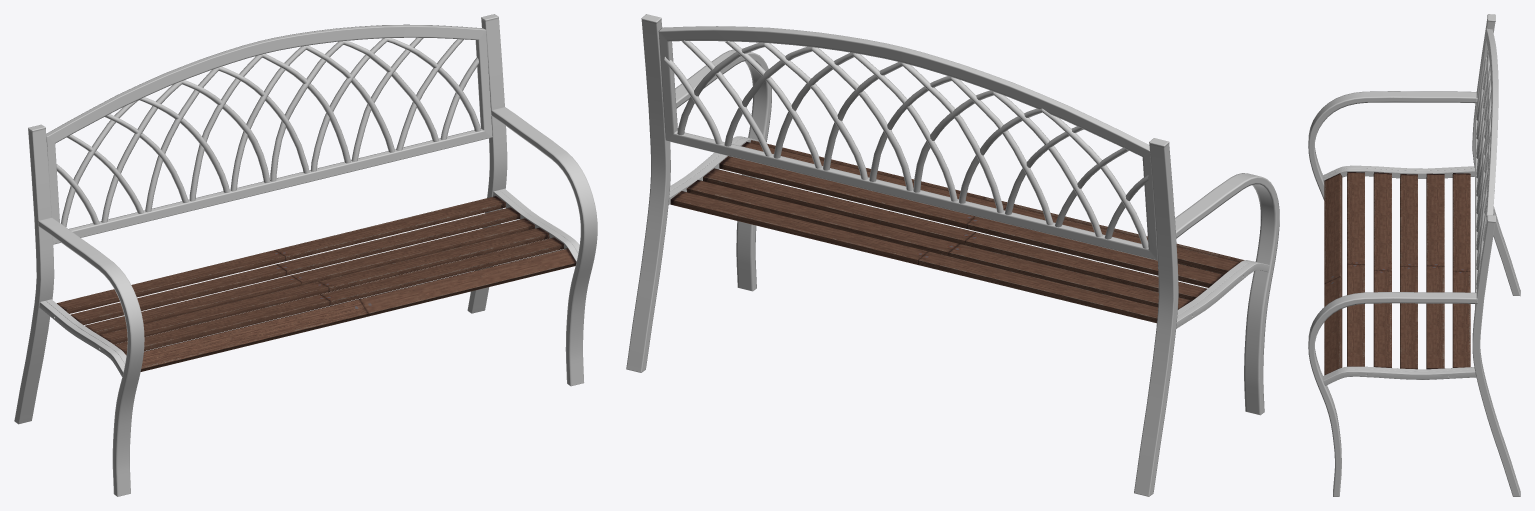
3 views of the same model, side by side, from view 1: azimuth 30°, elevation 25°; view 2: azimuth 150°, elevation 25°; view 3: azimuth 270°, elevation 25° (orthographic). The views are drawn at different scales.
Parts seen in each view (by area): view 1: polySurface10, Station_coverage_03:frame2, Station_coverage_03:frame12; view 2: Station_coverage_03:frame2, polySurface10, Station_coverage_03:frame12; view 3: polySurface10, Station_coverage_03:frame12, Station_coverage_03:frame2.
Part boxes in pixels (x1,y1,x2,y2): polySurface10: [57, 196, 576, 371]; Station_coverage_03:frame2: [46, 24, 492, 244]; Station_coverage_03:frame12: [14, 14, 597, 496]; Station_coverage_03:frame2: [658, 26, 1157, 260]; polySurface10: [670, 140, 1244, 323]; Station_coverage_03:frame12: [626, 14, 1279, 496]; polySurface10: [1324, 172, 1470, 375]; Station_coverage_03:frame12: [1308, 14, 1520, 496]; Station_coverage_03:frame2: [1475, 28, 1498, 306].
Bounding box in the file's own units: 127 × 86.31 × 54.87.
